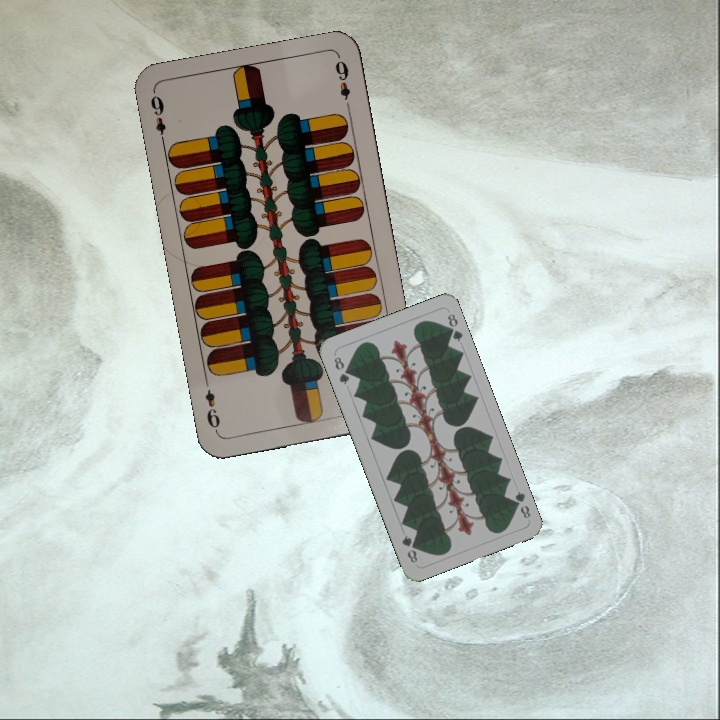E9: (146, 89, 169, 148)
G8: (508, 487, 533, 521), (330, 352, 352, 387)
